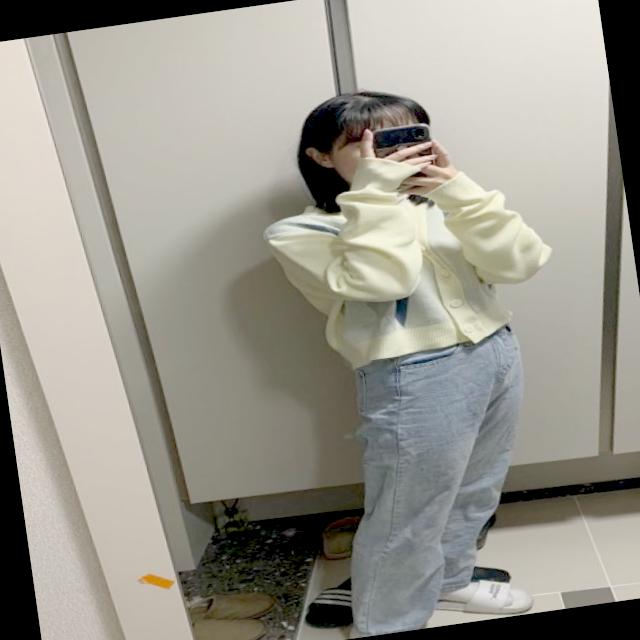cardigan: (254, 129, 572, 377)
denimpants: (320, 312, 565, 638)
